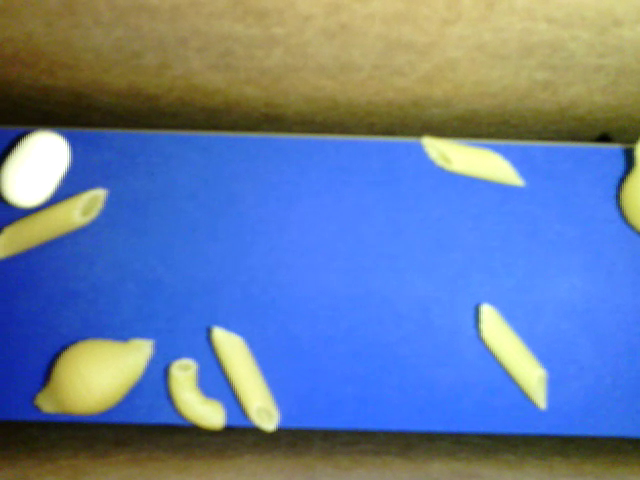elbow: (167, 358, 227, 430)
penne: (1, 187, 109, 258), (478, 302, 548, 410), (210, 326, 280, 430), (420, 135, 527, 186)
shell: (32, 337, 155, 414), (620, 140, 639, 234)
